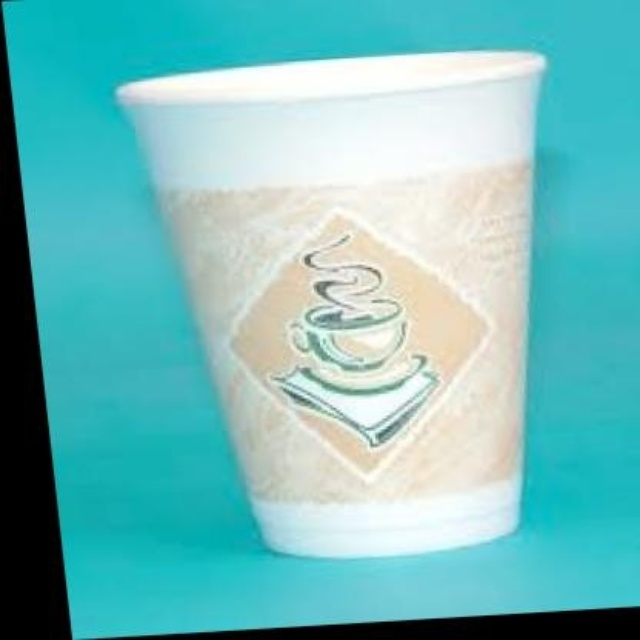trash: (117, 52, 543, 555)
